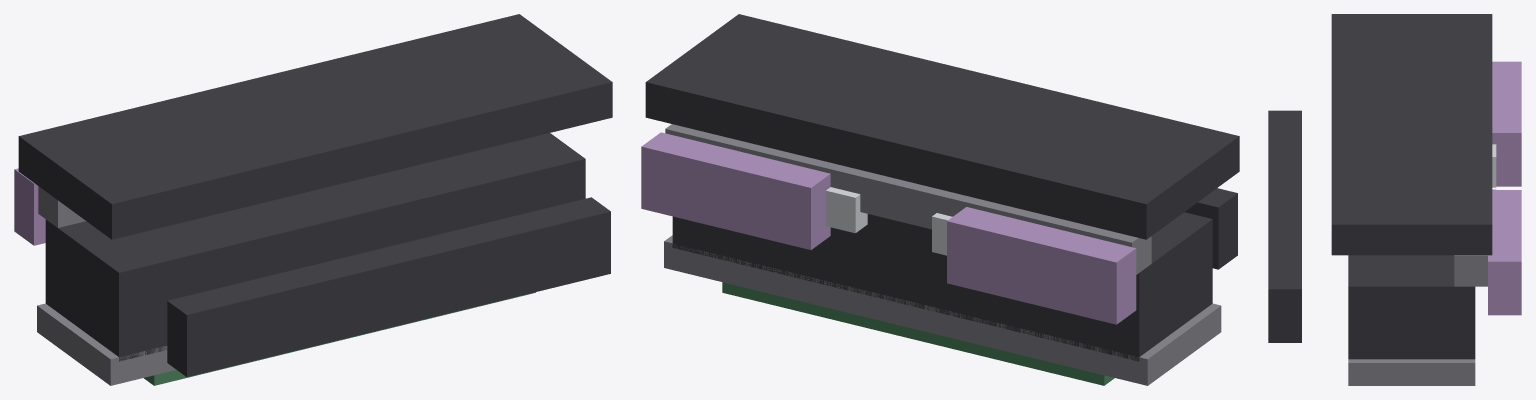
Rendered from cartridge_slot.gltf.
3 views of the same model, side by side, from view 1: azimuth 30°, elevation 25°; view 2: azimuth 150°, elevation 25°; view 3: azimuth 270°, elevation 25° (orthographic). The views are drawn at different scales.
Parts seen in each view (by area): view 1: cartridge_slot; view 2: cartridge_slot; view 3: cartridge_slot.
Boxes of the visible parts, x1,y1,x2,y2 form: cartridge_slot: (14, 14, 612, 385); cartridge_slot: (641, 14, 1239, 385); cartridge_slot: (1268, 14, 1521, 385).
Size of the model in its own units: 0.059 by 0.0235 by 0.03.
